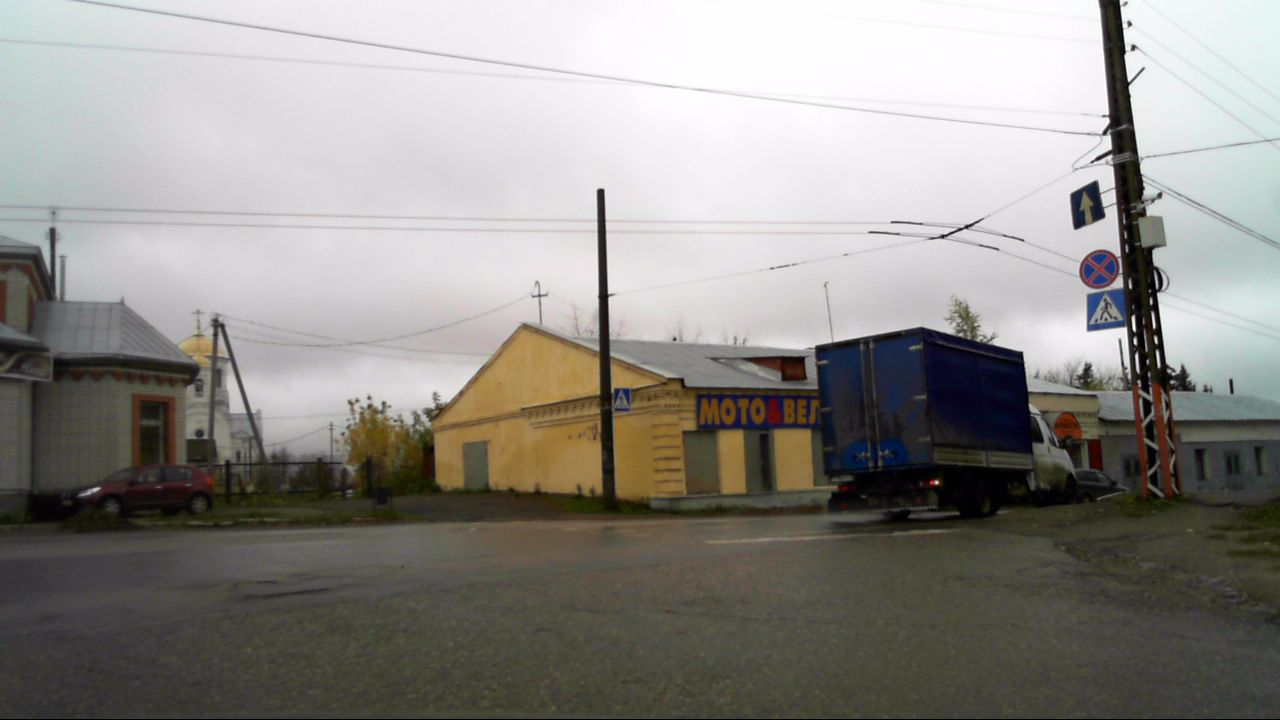No Parking: (1079, 249, 1119, 289)
